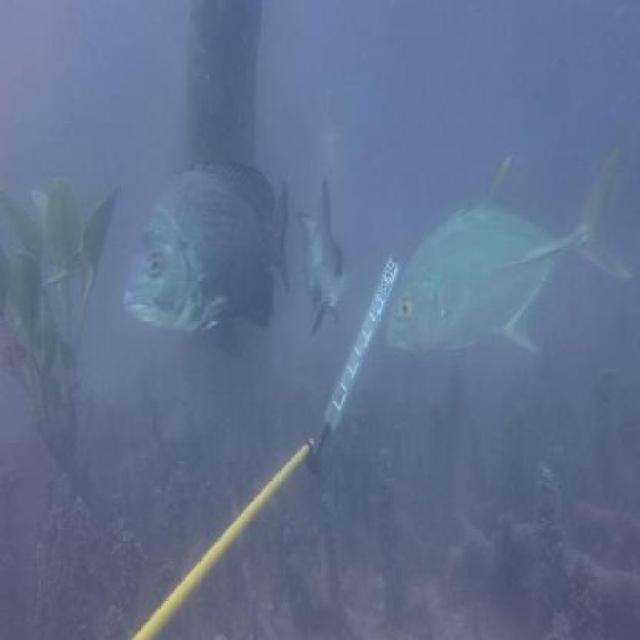Caranx: (382, 143, 636, 363)
acanthopagrus_palmaris: (122, 151, 292, 355), (295, 172, 356, 336)
